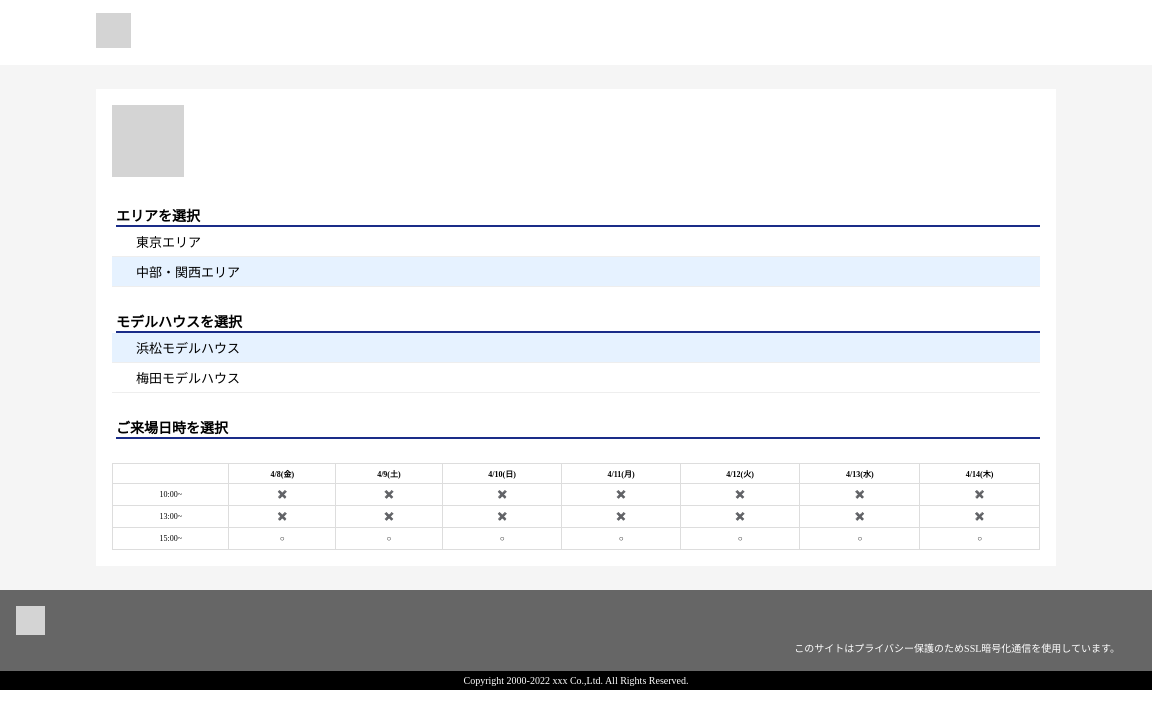
Test case: TOPページの表示 › 東京エリアをクリックしたら表示が切り替わるか
Click the text "東京エリア". click: (576, 242)
box: [112,227,1040,257]
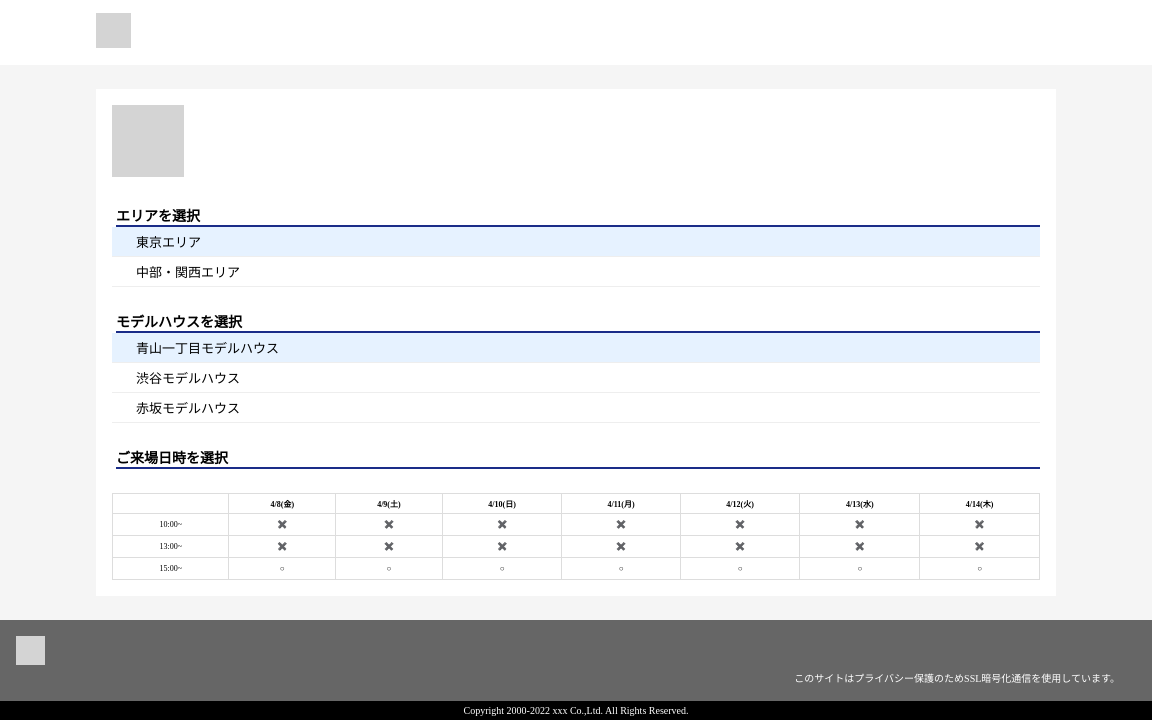
Expected: the text "青山一丁目モデルハウス" is shown, [112,333,1040,362]
Expected: the text "渋谷モデルハウス" is shown, [112,362,1040,392]
Expected: the text "赤坂モデルハウス" is shown, [112,392,1040,422]
